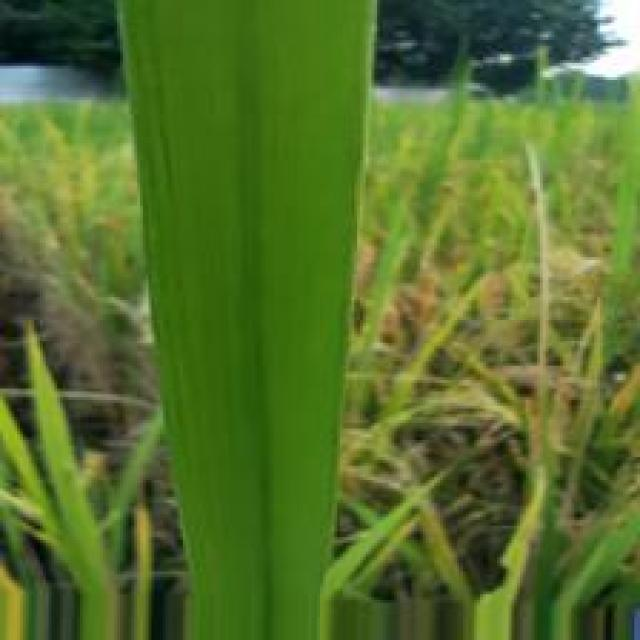HealthyLeaf: (112, 0, 375, 640)
